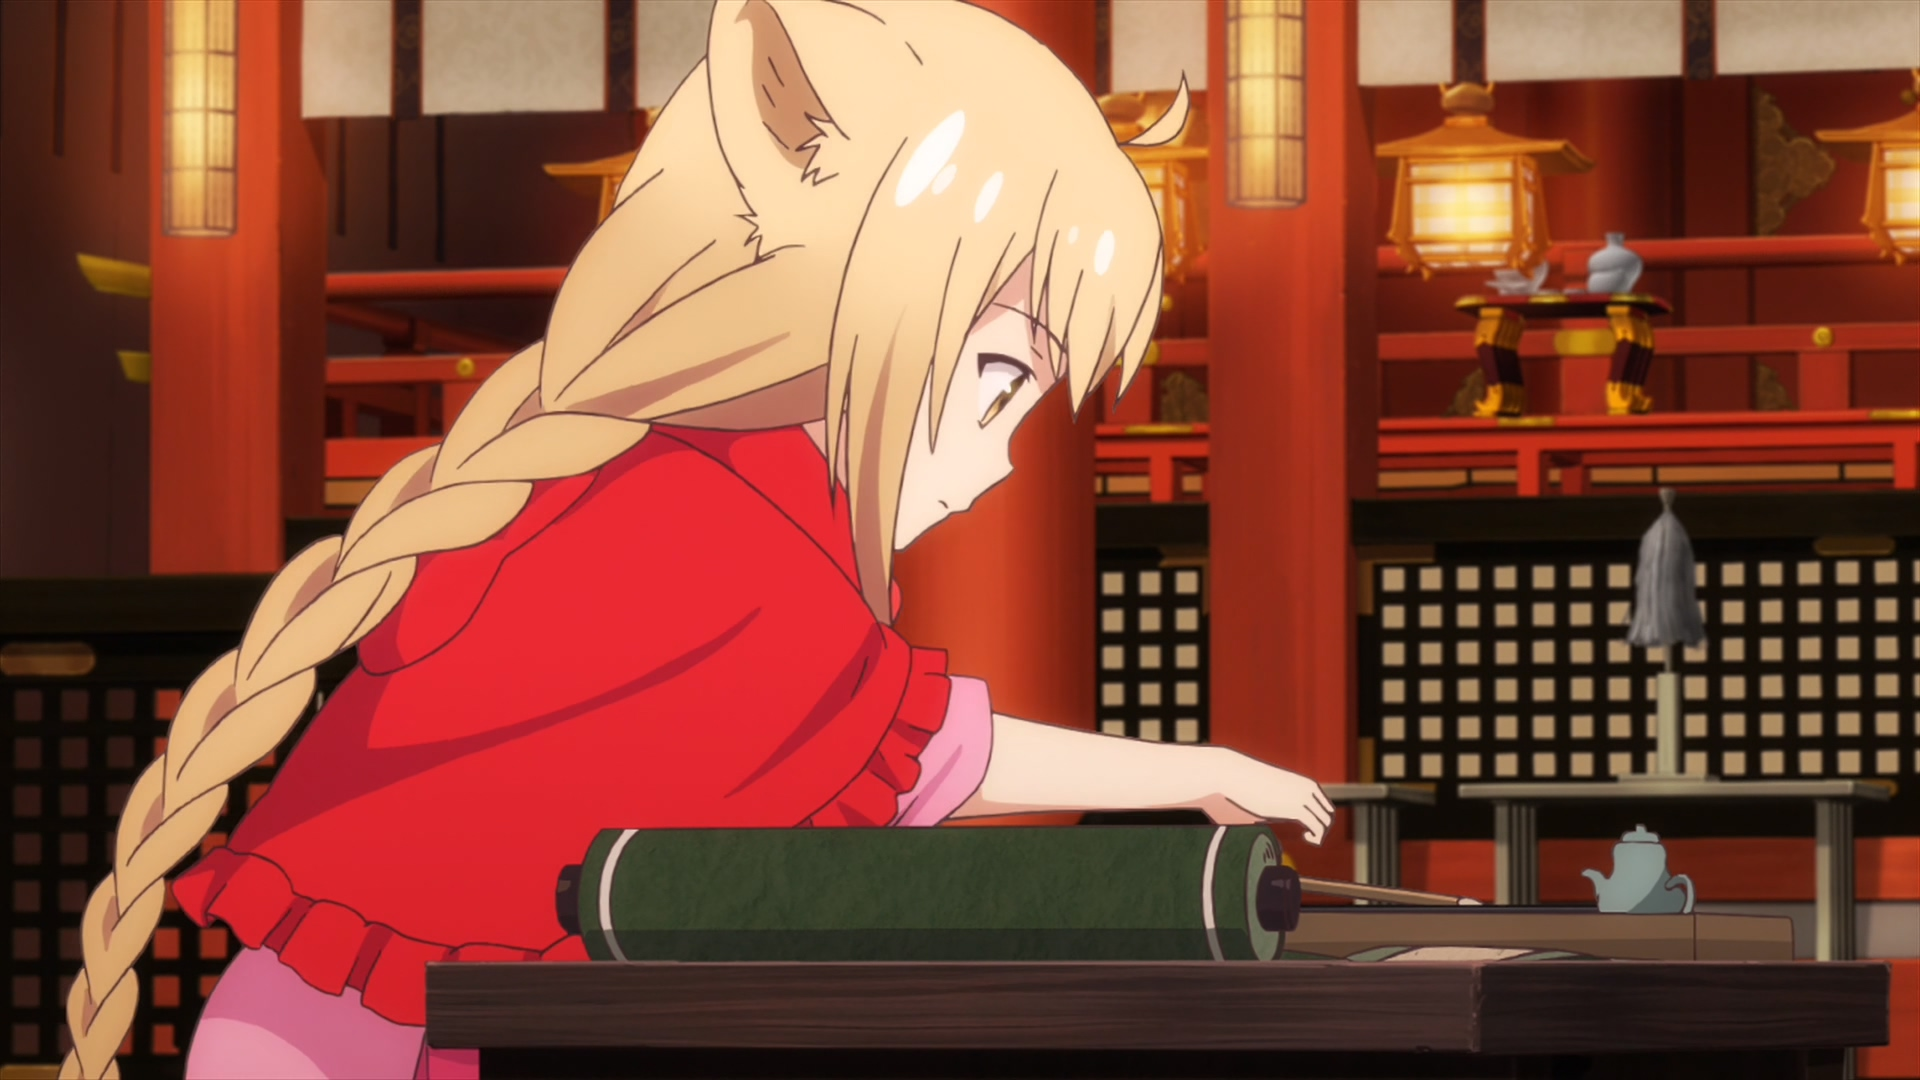柚: (63, 1, 1335, 1080)
